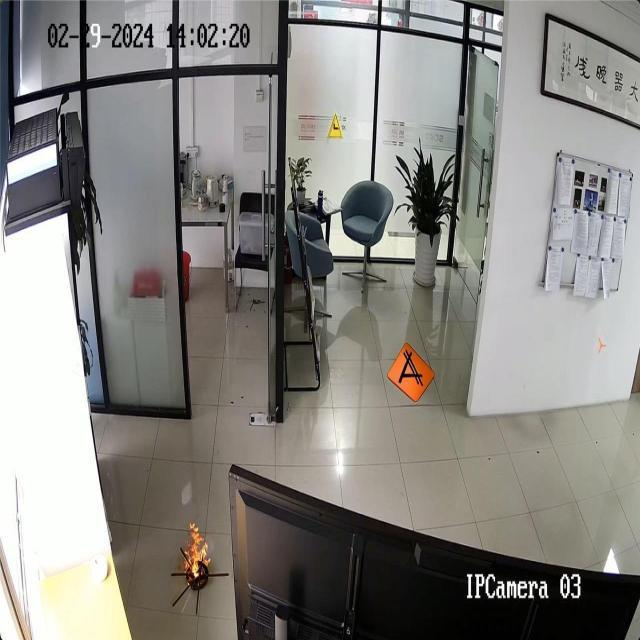smoke: (184, 522, 210, 580)
